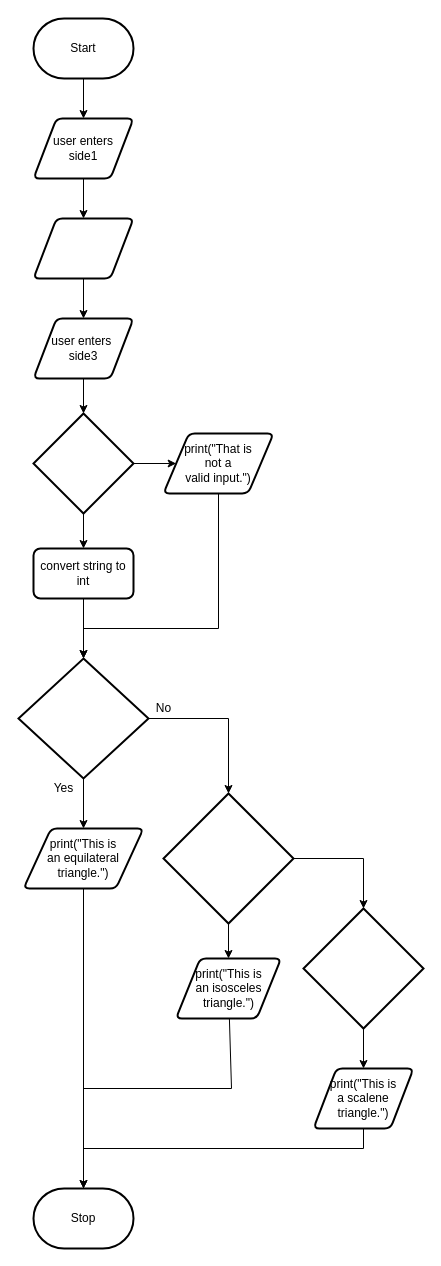
The diagram is 441 pixels wide and 1266 high, and some of its shapes have lost their labels. Here are the shapes that lost their labels. From the top down, the centre of each, then its label:
At (x=83, y=248): "user enters side2".
At (x=83, y=463): "try".
At (x=83, y=718): "if side1 == side2 and side1 == side3:".
At (x=228, y=858): "elif side1 == side2 or side2 == side3 or side3 == side1:".
At (x=363, y=968): "elif side1 != side2 and side2 != side3:".
